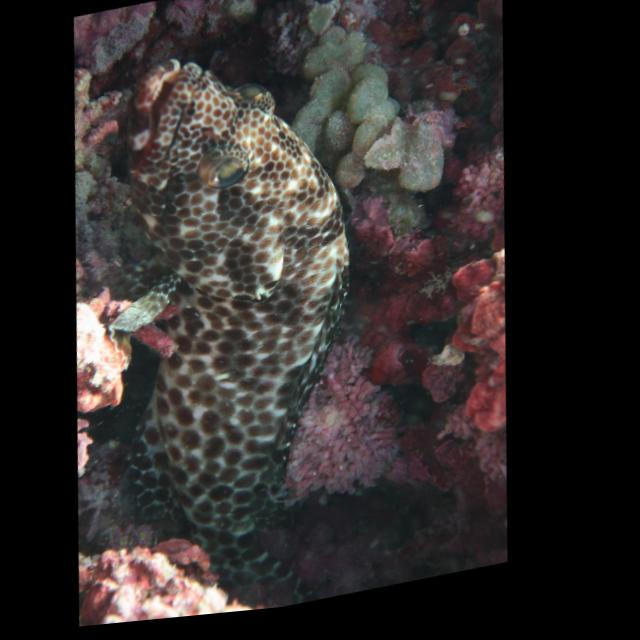Groupers: (44, 7, 408, 630)
